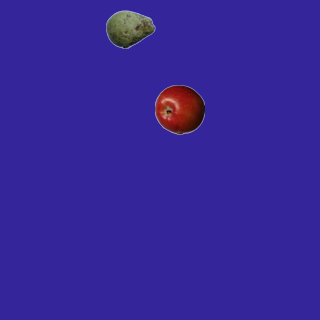Apple Braeburn: (154, 84, 204, 134)
Pear Stone: (105, 4, 155, 54)
